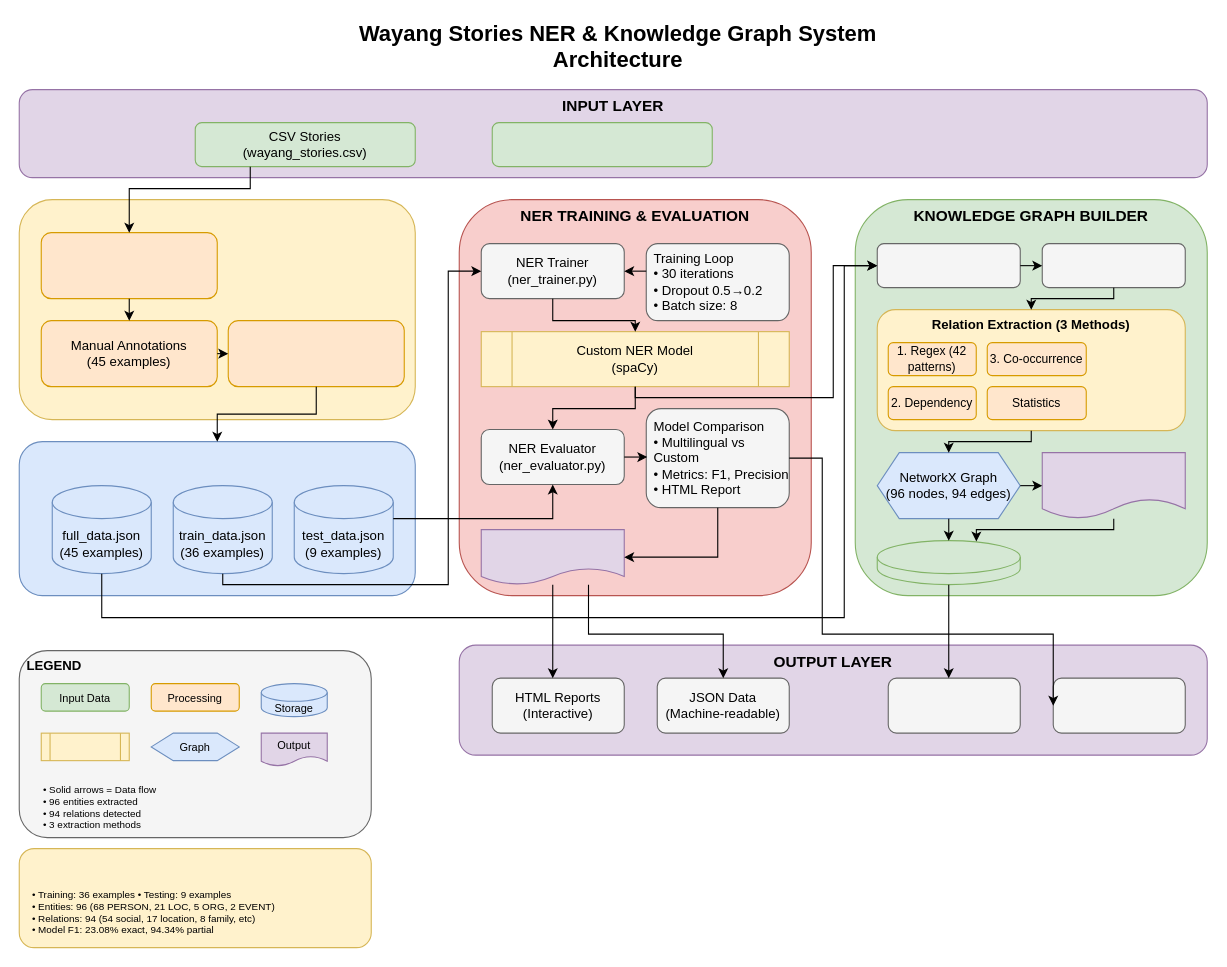
This 1227x967 diagram has some shape labels left out. Here are the shapes that lost their labels. From the top down, the box of each, then its label:
(491, 122, 712, 167): Raw Indonesian Text (Wayang narratives)
(40, 232, 217, 299): Annotation Helper (tools/annotate_helper.py)
(876, 243, 1020, 288): Data Loader
(1041, 243, 1185, 288): Entity Extraction
(18, 199, 415, 420): ANNOTATION LAYER
(227, 320, 404, 387): Create Training Data (train/test split)
(1041, 452, 1185, 519): PyVis Visualization (Interactive HTML)
(18, 441, 415, 596): DATA STORAGE LAYER
(480, 529, 624, 585): Evaluation Reports (JSON + HTML)
(876, 540, 1020, 585): Knowledge Graph (HTML + JSON)
(887, 677, 1020, 733): Visualizations (Knowledge Graph)
(1052, 677, 1185, 733): Metrics (NER Performance)
(40, 732, 129, 761): ML Model
(18, 848, 371, 948): SYSTEM STATS
